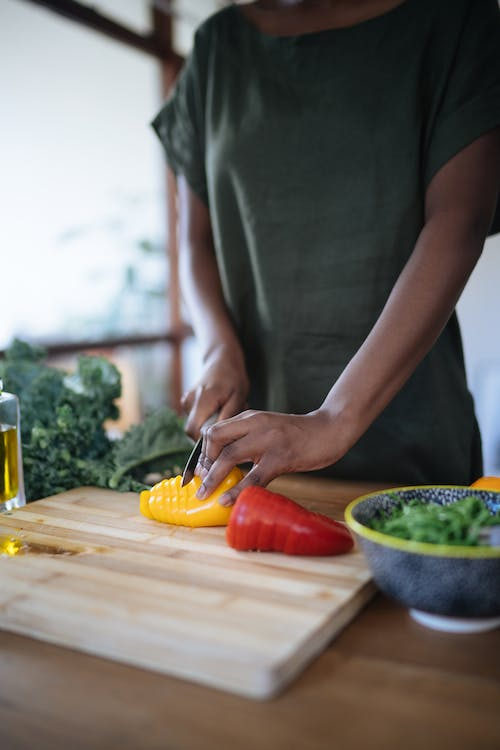knife: (178, 414, 222, 489)
